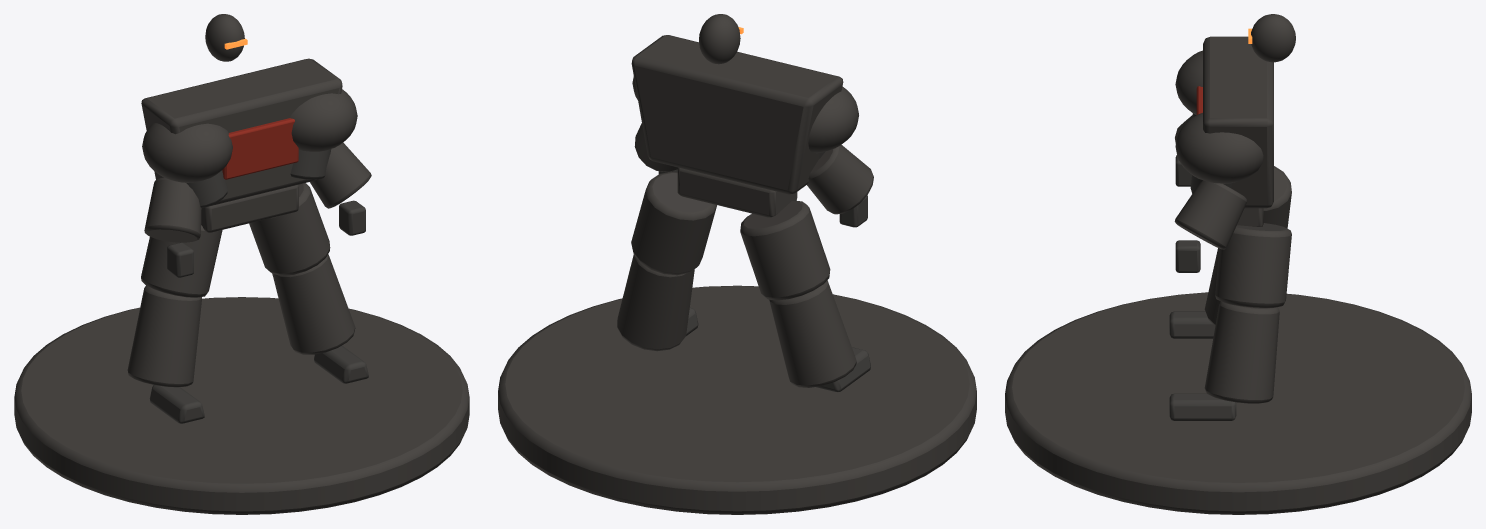
File: foundries_frame_brute.glb
The picture shows the model from 3 angles, left to right: view 1: azimuth 30°, elevation 25°; view 2: azimuth 150°, elevation 25°; view 3: azimuth 270°, elevation 25°; orthographic projection. The views are drawn at different scales.
Visible parts, largest first — view 1: standin_base, standin_torso, standin_shin_R, standin_shin_L, standin_thigh_L, standin_pauldron_R, standin_thigh_R, tp, standin_pauldron_L, standin_forearm_R, standin_pelvis, standin_forearm_L (+7 smaller); view 2: standin_base, standin_torso, standin_thigh_R, standin_shin_R, standin_thigh_L, standin_shin_L, standin_forearm_R, standin_pelvis, standin_pauldron_R, standin_helm, standin_foot_R, standin_forearm_L; view 3: standin_base, standin_torso, standin_shin_L, standin_thigh_L, standin_pauldron_L, standin_forearm_L, standin_helm, standin_foot_L, standin_foot_R, standin_pauldron_R, standin_thigh_R, standin_hand_L (+1 smaller).
Boxes of the visible parts, bbox=[...] form: standin_base: bbox=[14, 297, 469, 514]; standin_torso: bbox=[141, 58, 342, 207]; standin_shin_R: bbox=[127, 285, 201, 387]; standin_shin_L: bbox=[272, 254, 355, 354]; standin_thigh_L: bbox=[249, 183, 330, 275]; standin_pauldron_R: bbox=[142, 123, 232, 182]; standin_thigh_R: bbox=[141, 225, 222, 297]; tp: bbox=[222, 118, 298, 179]; standin_pauldron_L: bbox=[290, 89, 357, 151]; standin_forearm_R: bbox=[144, 177, 201, 242]; standin_pelvis: bbox=[201, 185, 298, 232]; standin_forearm_L: bbox=[310, 142, 371, 208]; standin_base: bbox=[498, 285, 976, 514]; standin_torso: bbox=[631, 35, 843, 194]; standin_thigh_R: bbox=[740, 200, 830, 300]; standin_shin_R: bbox=[769, 280, 856, 387]; standin_thigh_L: bbox=[631, 171, 716, 275]; standin_shin_L: bbox=[617, 255, 694, 351]; standin_forearm_R: bbox=[807, 145, 873, 214]; standin_pelvis: bbox=[677, 167, 797, 217]; standin_pauldron_R: bbox=[808, 86, 858, 153]; standin_helm: bbox=[699, 14, 740, 64]; standin_foot_R: bbox=[816, 347, 870, 392]; standin_forearm_L: bbox=[634, 123, 677, 171]; standin_base: bbox=[1005, 292, 1471, 514]; standin_torso: bbox=[1203, 36, 1273, 208]; standin_shin_L: bbox=[1204, 301, 1279, 403]; standin_thigh_L: bbox=[1215, 223, 1291, 307]; standin_pauldron_L: bbox=[1175, 113, 1263, 183]; standin_forearm_L: bbox=[1174, 180, 1246, 249]; standin_helm: bbox=[1251, 14, 1295, 62]; standin_foot_L: bbox=[1169, 393, 1236, 420]; standin_foot_R: bbox=[1169, 311, 1215, 338]; standin_pauldron_R: bbox=[1175, 50, 1202, 114]; standin_thigh_R: bbox=[1263, 166, 1291, 228]; standin_hand_L: bbox=[1175, 240, 1200, 272].
Bounding box in the file's own units: 40 × 38.16 × 40.
